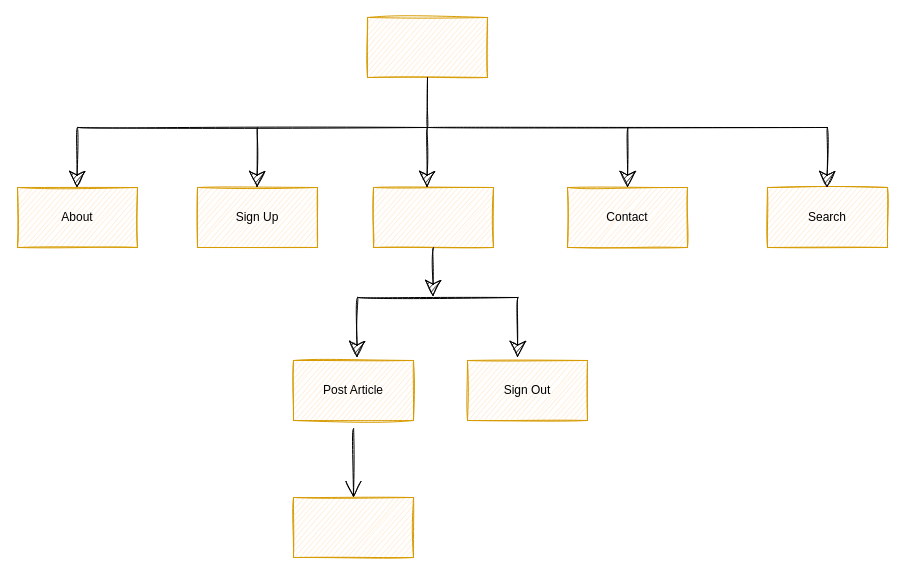
This 905x575 diagram has some shape labels left out. Each missing label, with the centre of its shape:
Edit / Delete Article: the point at 353,527
Home: the point at 427,47
Login: the point at 433,217
